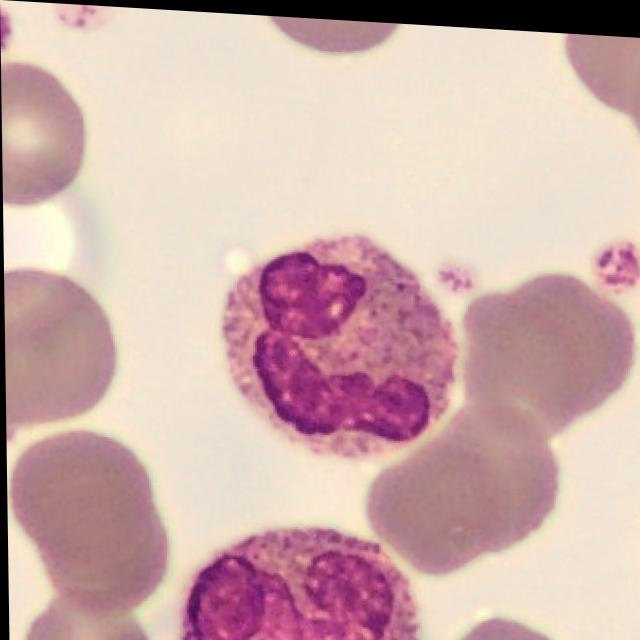Neutrofilo segmentado: (219, 230, 458, 456)
